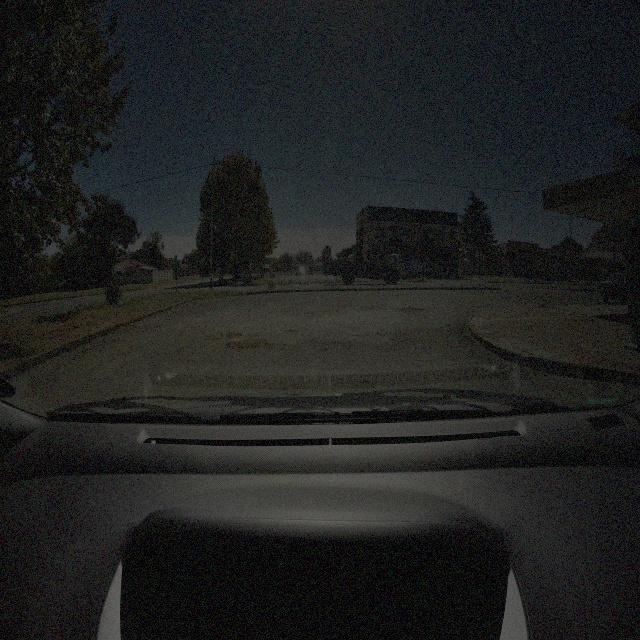pothole: (226, 336, 274, 352), (394, 306, 424, 314), (226, 328, 243, 338), (282, 326, 298, 335)
